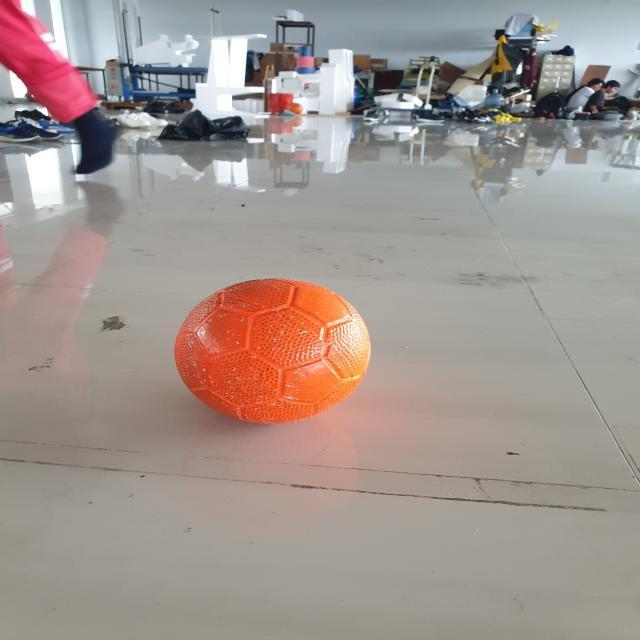bola: (164, 269, 386, 429)
